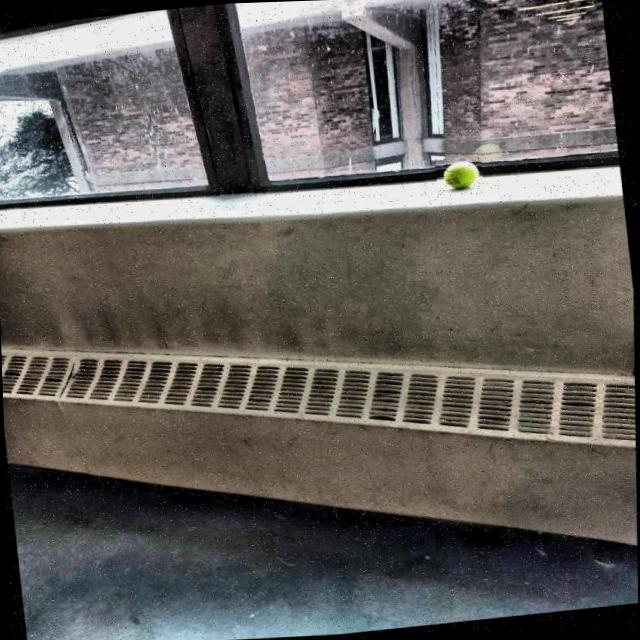Tennis Ball: (434, 156, 488, 198)
